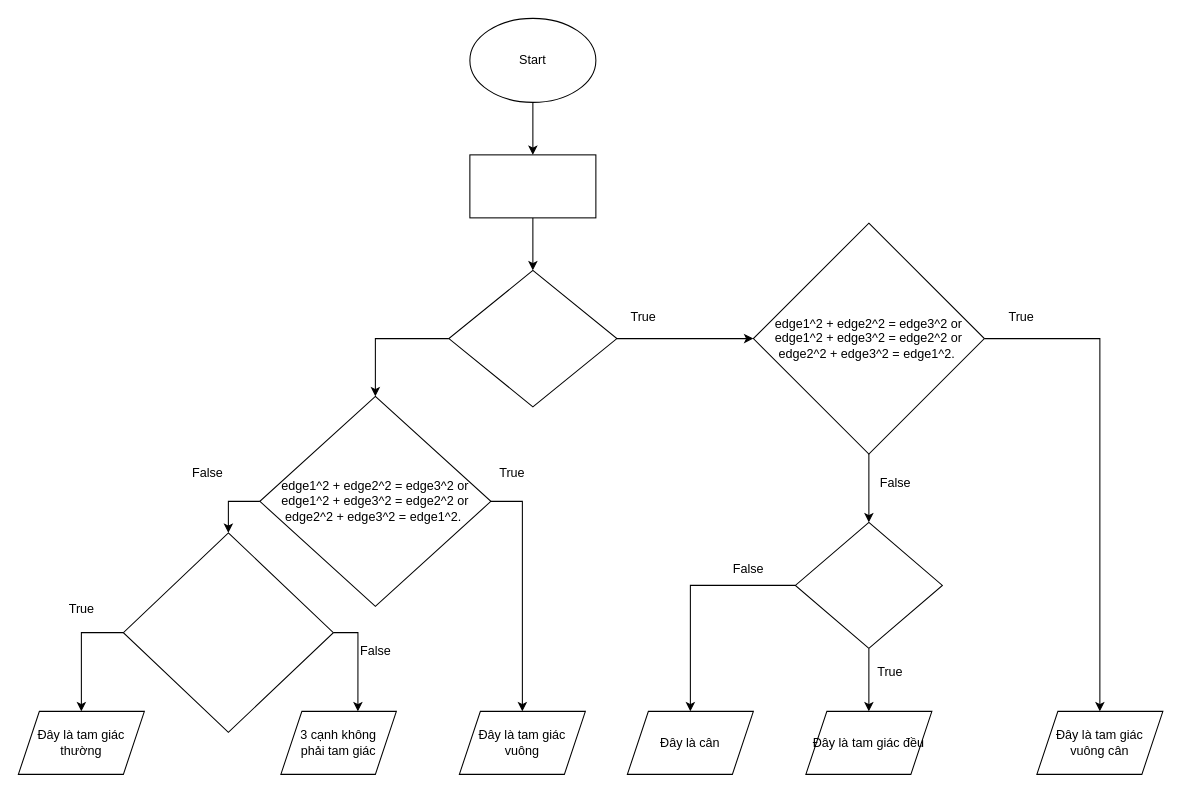
This 1181x793 diagram has some shape labels left out. The box of each missing label's shape, as (x1, y1, x2, y2) in pixels:
edge1 + edge2 > edge3 or edge1 + edge3 > edge2 or edge2 + edge3 > edge1: (122, 532, 333, 732)
edge1 = edge2 = edge3: (794, 521, 942, 648)
edge1 = edge2 or edge1 = edge3 or edge2 = edge3.: (448, 269, 617, 407)
edge1, edge2, edge3: (469, 154, 596, 218)
